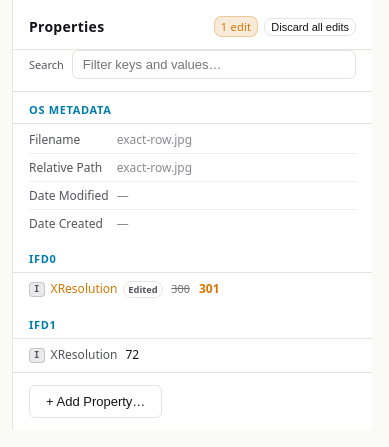
it: DetailsPane exact target-owned row presentation › keeps a same-schema Set draft on its exact occurrence row
Expected: the element with class "draft-original" reads "300", x1=171 y1=281 x2=190 y2=296
Expected: the element with class "draft-new" reads "301", x1=199 y1=280 x2=220 y2=297
Right-click the row with test id "details-row" showing "I XResolution Edited 300 301" at (192,289), box x1=29 y1=275 x2=356 y2=303
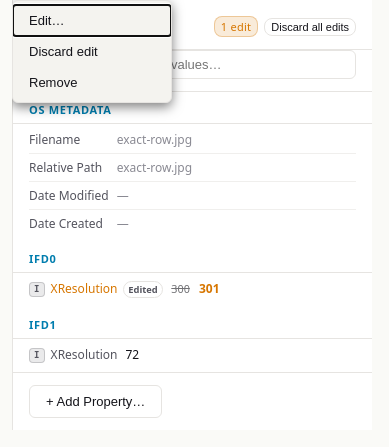
Now the button "Edit…" is shown, box x1=13 y1=5 x2=171 y2=36
Now the button "Discard edit" is shown, box x1=13 y1=36 x2=171 y2=67
Now the button "Remove" is shown, box x1=13 y1=67 x2=171 y2=98
